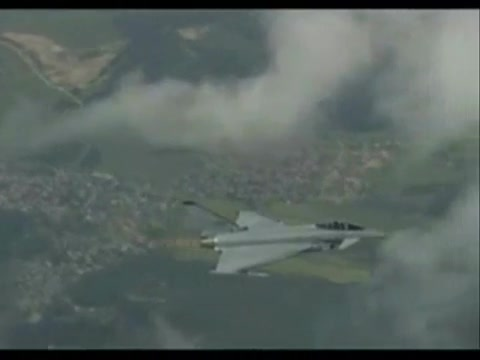aeroplane: (186, 190, 391, 280)
